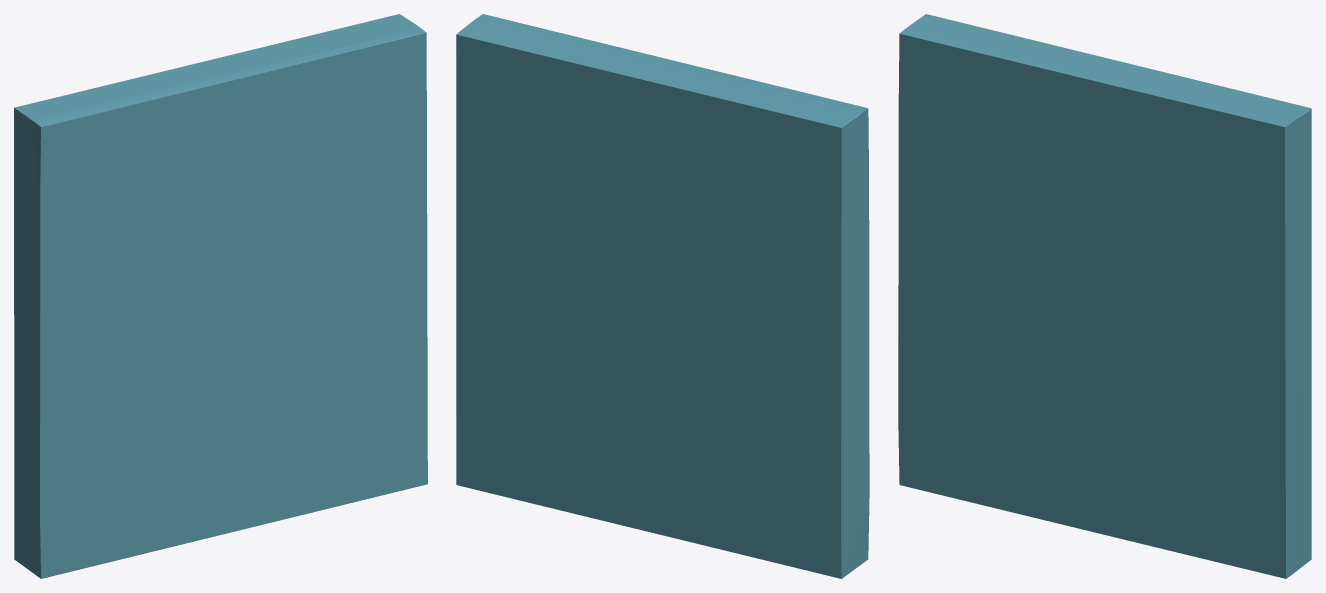
File: pallet_b03.glb
The picture shows the model from 3 angles, left to right: view 1: azimuth 30°, elevation 25°; view 2: azimuth 150°, elevation 25°; view 3: azimuth 330°, elevation 25°; orthographic projection.
Visible parts, largest first — view 1: geometry_0; view 2: geometry_0; view 3: geometry_0.
Boxes of the visible parts, bbox=[...] form: geometry_0: bbox=[14, 14, 427, 578]; geometry_0: bbox=[456, 14, 869, 578]; geometry_0: bbox=[898, 14, 1311, 578].
Size of the model in its own units: 0.4306 by 0.48 by 0.052.
